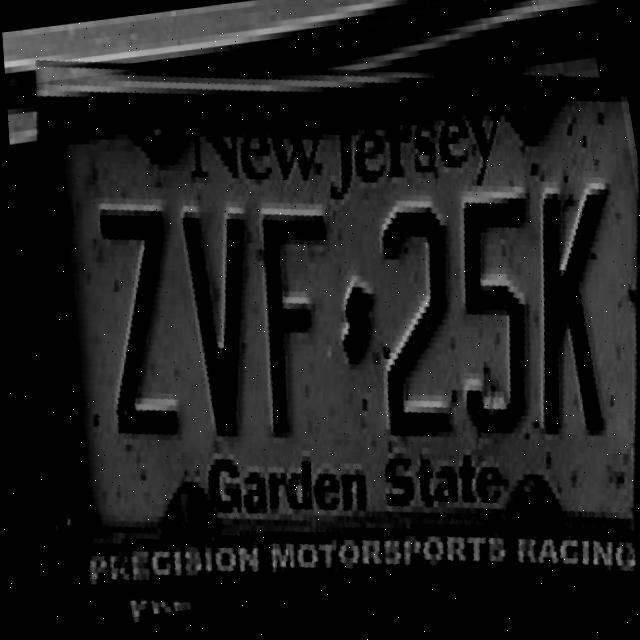LicensePlate: (1, 11, 640, 640)
